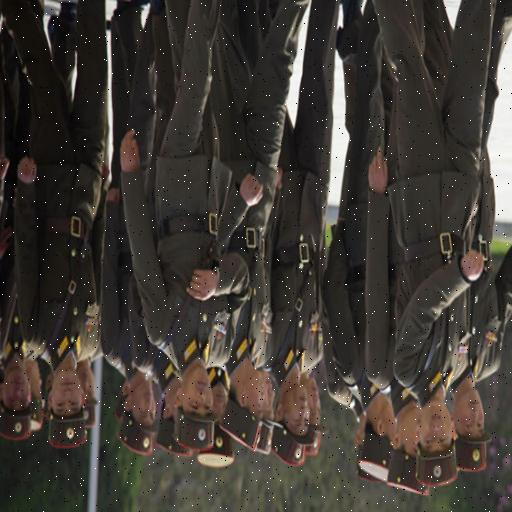north army: (8, 5, 512, 456)
